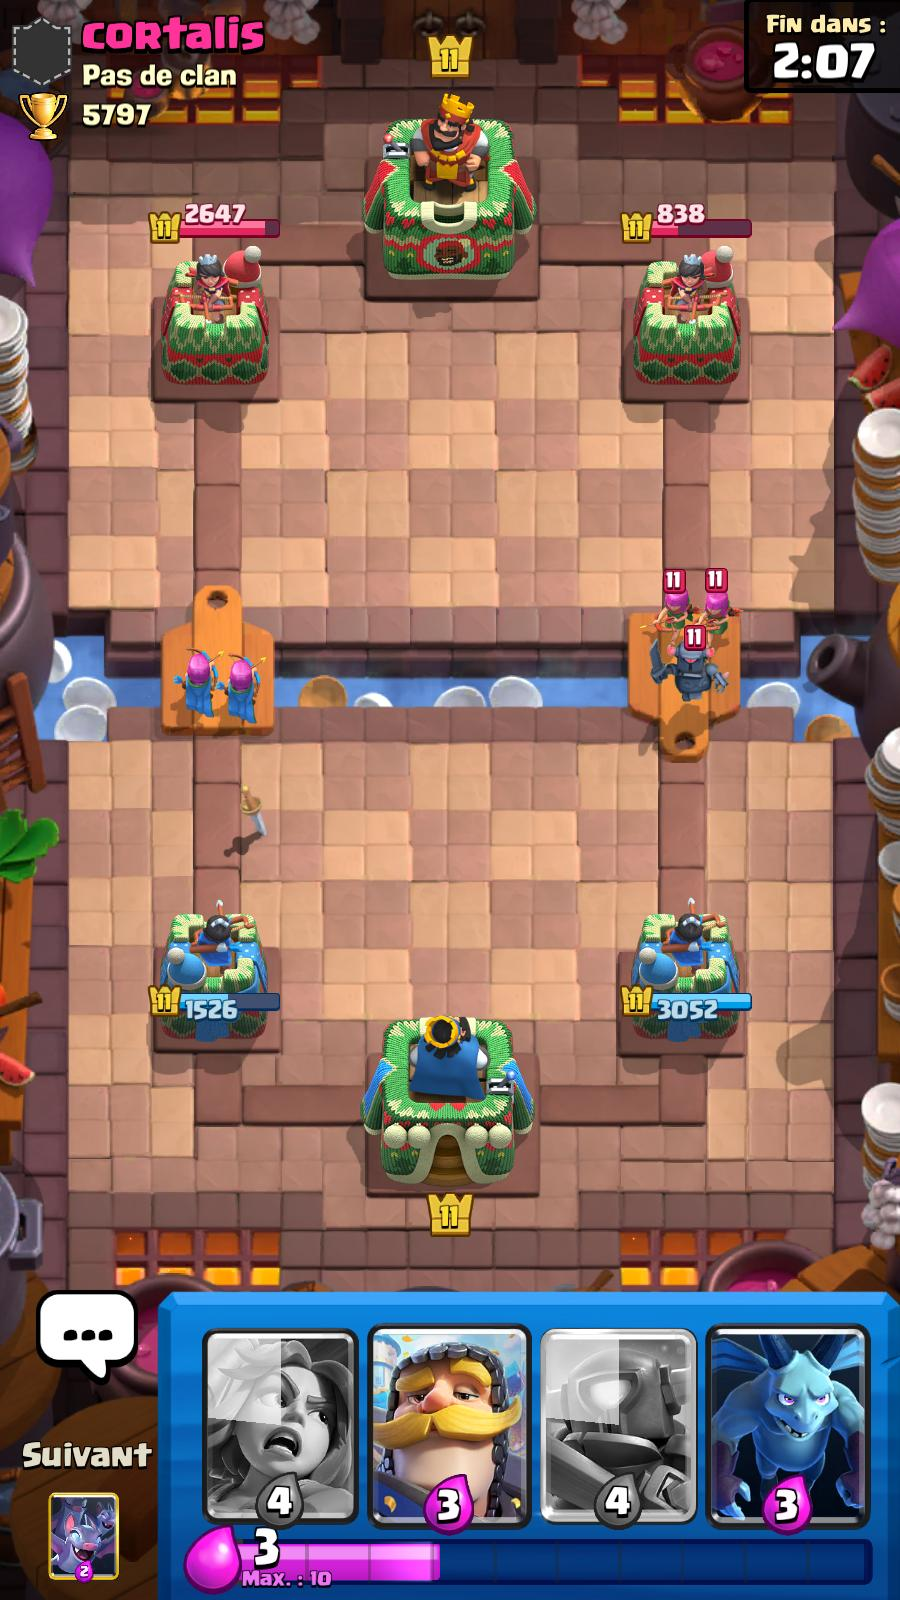archere: (219, 642, 285, 727), (685, 563, 747, 648), (166, 636, 230, 715), (637, 570, 696, 640)
mini_PEKKA: (643, 635, 752, 727)
